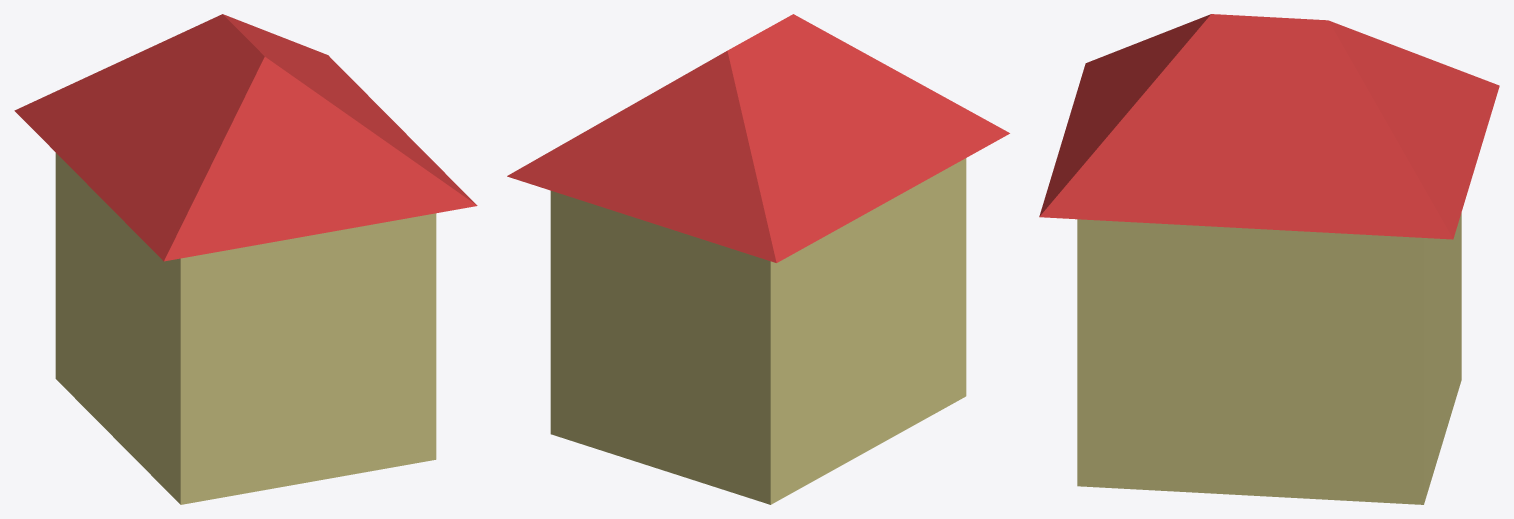
3 renders of one model, left to right at view 1: azimuth 30°, elevation 25°; view 2: azimuth 150°, elevation 25°; view 3: azimuth 270°, elevation 25°, orthographic. The views are drawn at different scales.
Parts seen in each view (by area): view 1: group_5, group_3, group_4; view 2: group_5, group_3, group_4; view 3: group_5, group_3, group_4.
Part boxes in pixels (box(x1,y1,x2,y2)): group_5: box(55, 153, 436, 504); group_3: box(14, 14, 477, 261); group_4: box(125, 49, 338, 260); group_5: box(550, 158, 966, 504); group_3: box(557, 14, 1009, 262); group_4: box(507, 110, 1009, 262); group_5: box(1077, 213, 1461, 504); group_3: box(1039, 14, 1460, 239); group_4: box(1347, 71, 1499, 239).
Size of the model in its own units: 12.27 by 13.55 by 13.46.
